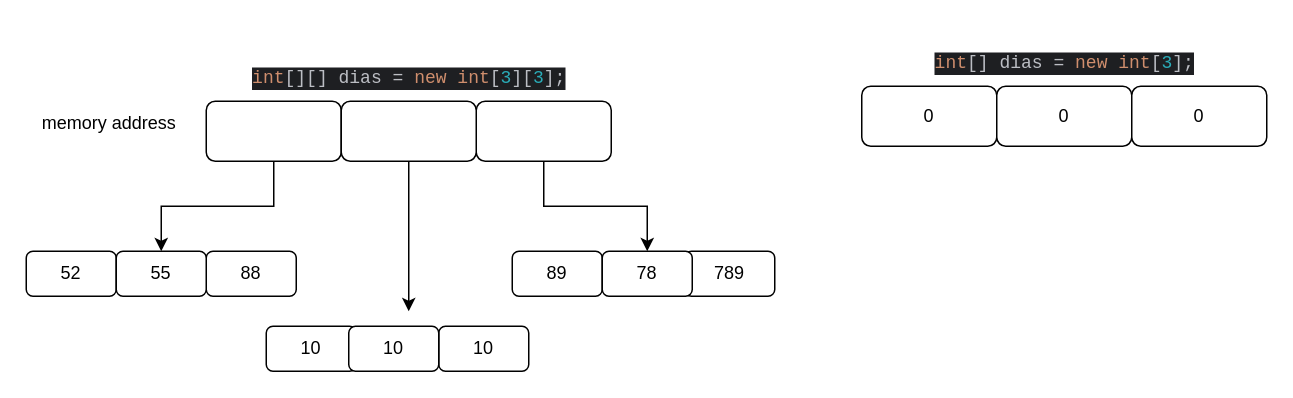
Image size: 1293x398. Some labels were removed from this diagram. Each missing label, with the box of its shape:
[I@3feba861: (475, 100, 611, 161)
[I@5f184fc6: (340, 100, 476, 161)
[I@6acbcfc0: (205, 100, 341, 161)
